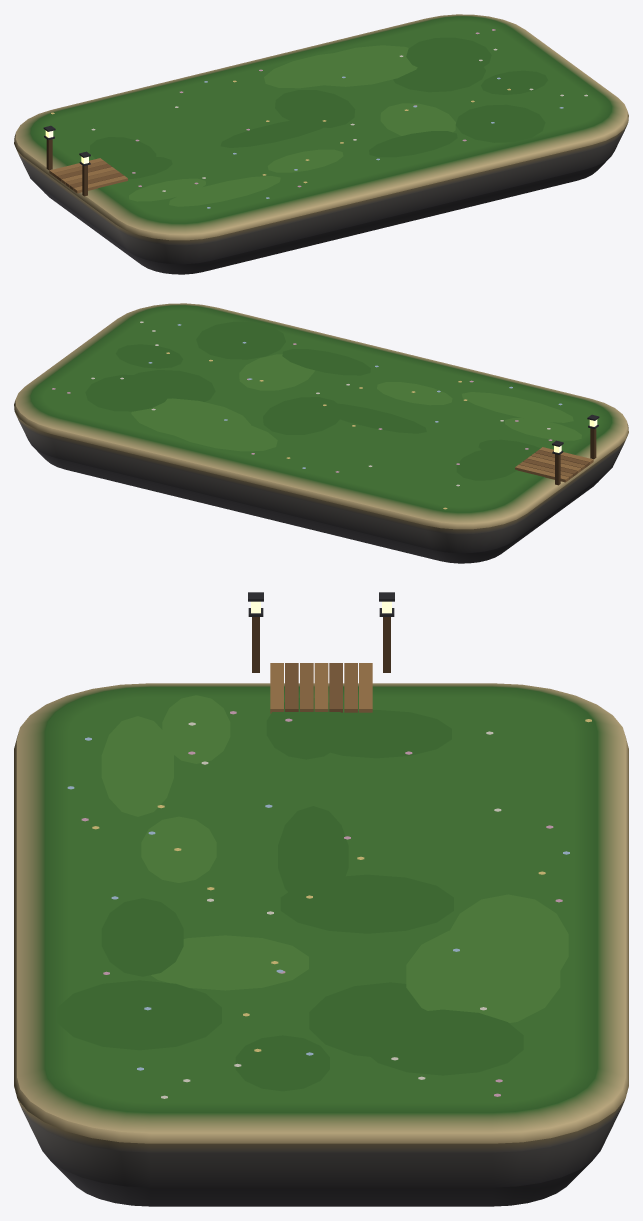
Rendered from island-b.glb.
The picture shows the model from 3 angles, top to bottom: view 1: azimuth 30°, elevation 25°; view 2: azimuth 150°, elevation 25°; view 3: azimuth 270°, elevation 25°; orthographic projection. The views are drawn at different scales.
Bounding box in the file's own units: 19.05 × 3.47 × 10.8.
